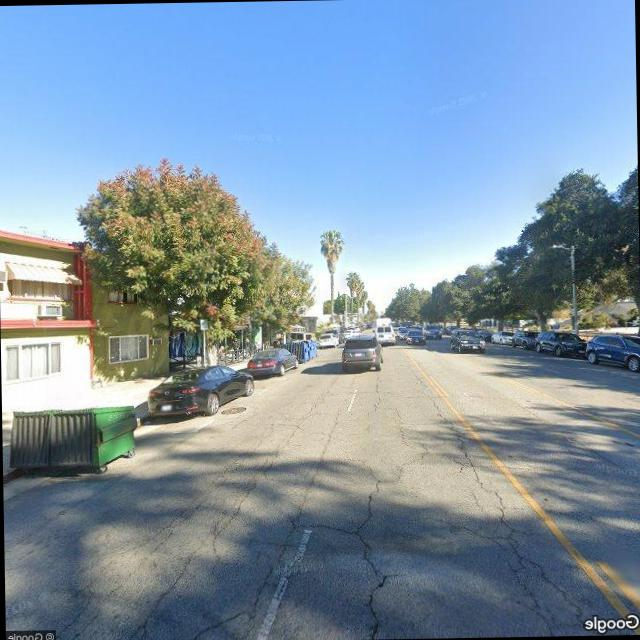crack: (137, 387, 611, 640)
